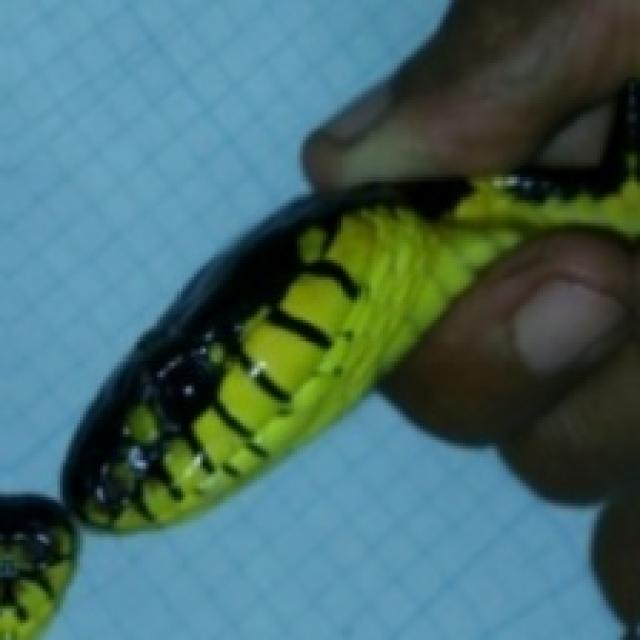mangrove cat snake: (66, 86, 637, 526)
